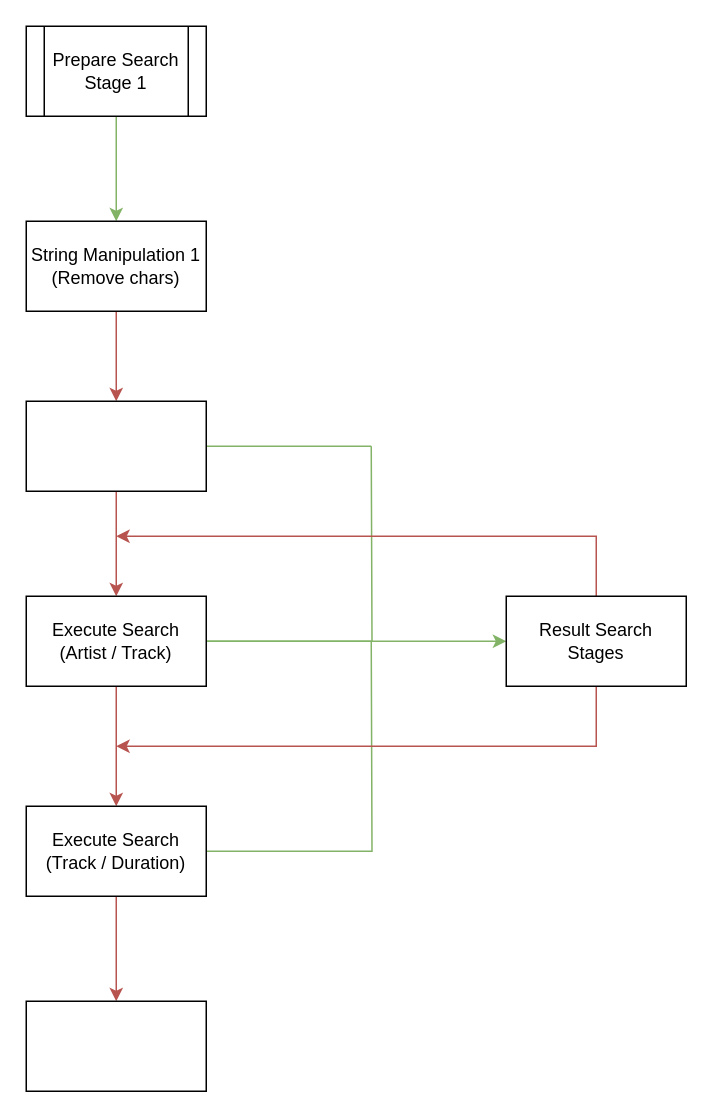
Some shapes in this 713 by 1118 pixel diagram are drawn without their labels. Here are the shapes that lost their labels. From the top down, the centre of each, then its label:
[115,445]: Execute Search (Artist / Track / Duration)
[115,1045]: Next Song (NotFound)
